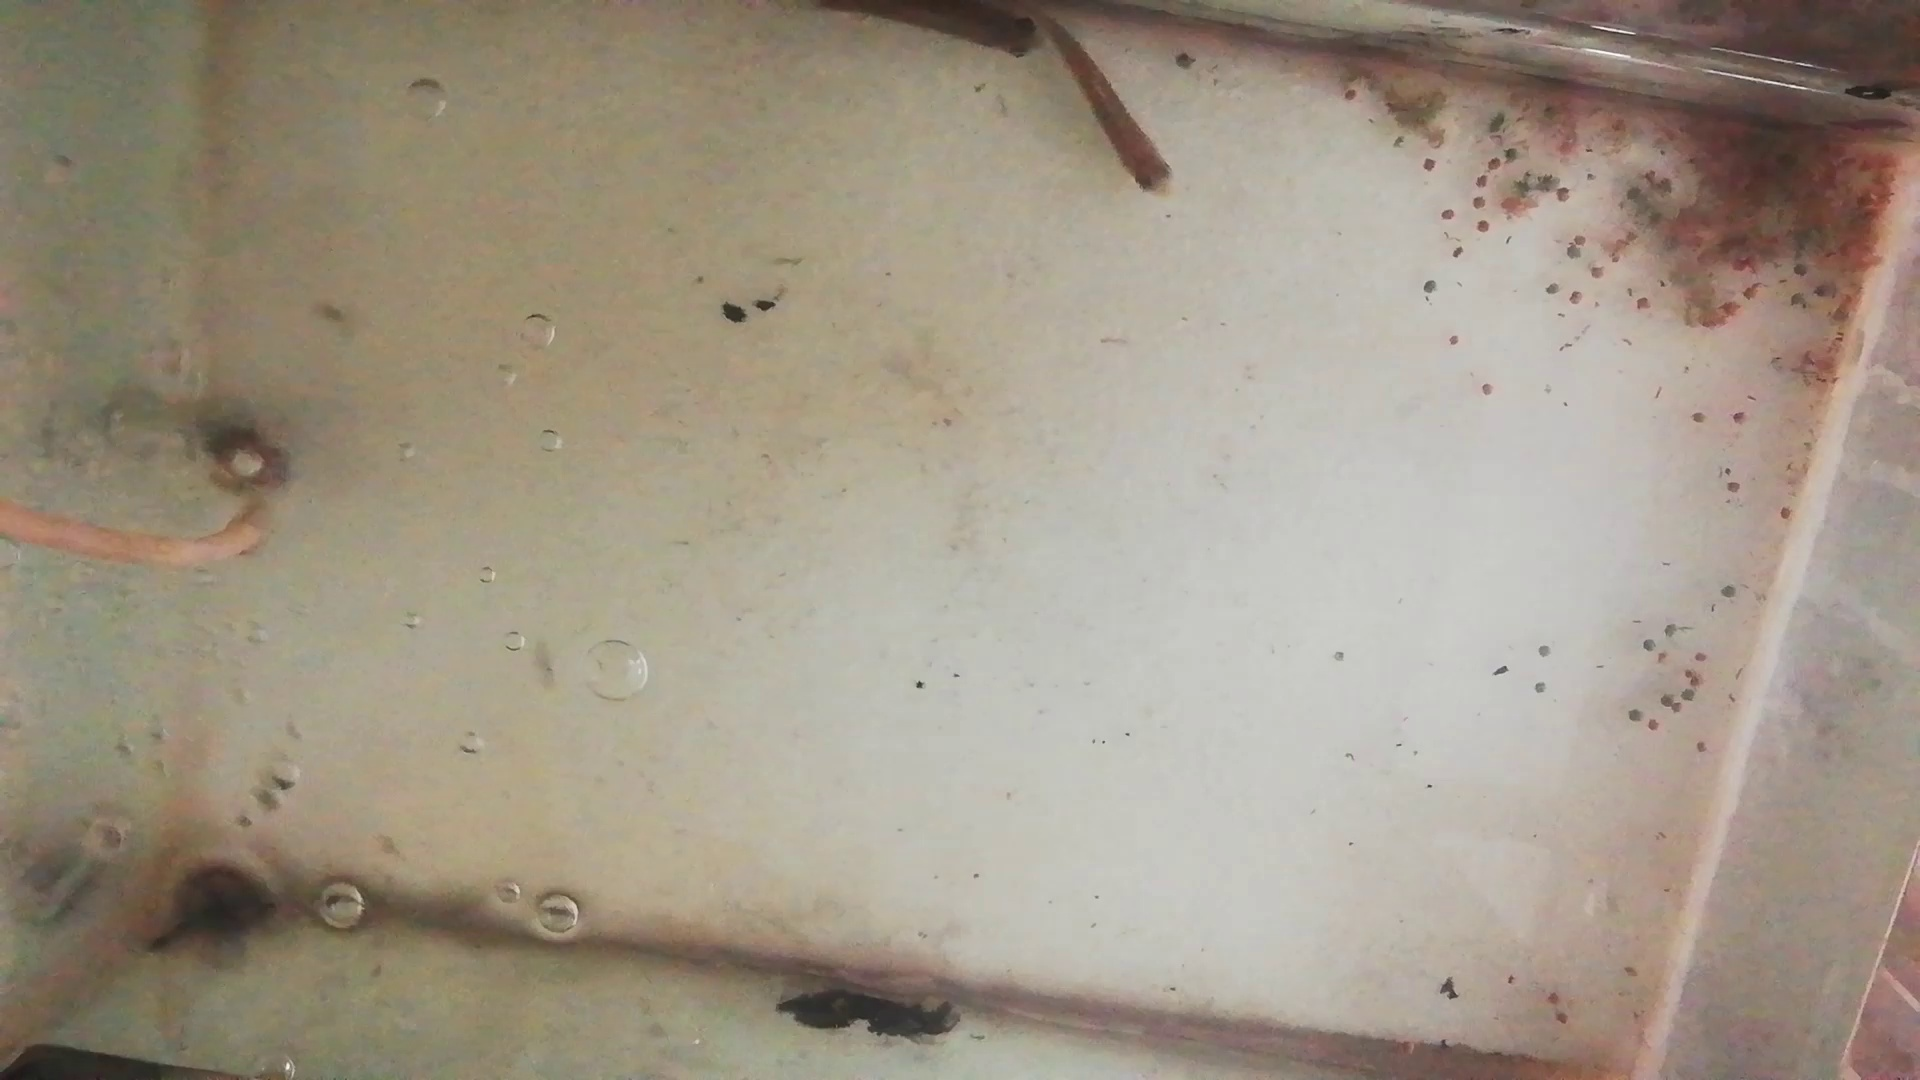fish: (1043, 18, 1179, 207), (825, 3, 1040, 73)
